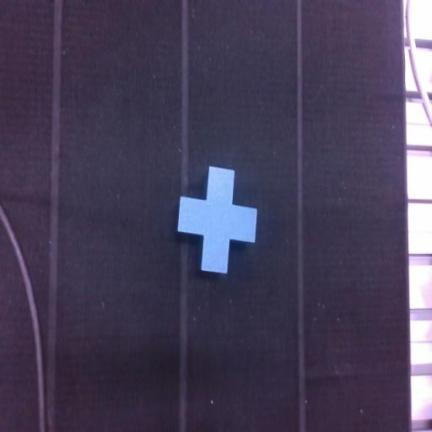cross: (179, 167, 257, 273)
